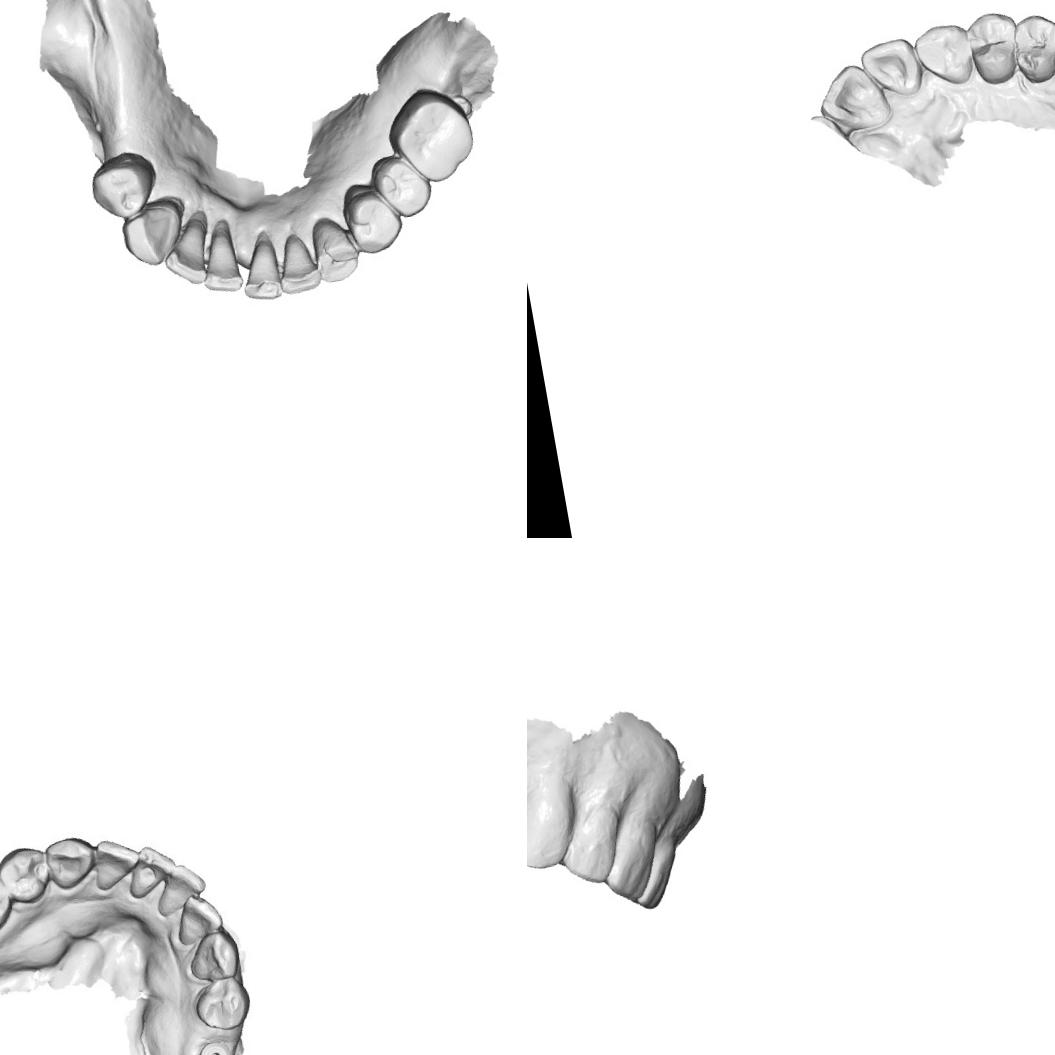canine: (527, 779, 588, 880), (114, 196, 188, 272), (910, 17, 982, 93), (309, 212, 364, 288), (182, 928, 244, 984), (39, 834, 97, 890)
implant: (194, 1035, 233, 1055)
incisor: (550, 798, 632, 894), (594, 816, 672, 908), (810, 57, 897, 138), (856, 34, 929, 106), (156, 217, 213, 292), (190, 224, 246, 298), (233, 229, 286, 306), (270, 229, 326, 299), (628, 842, 682, 912), (90, 834, 144, 889), (154, 858, 206, 911), (176, 893, 224, 944), (126, 846, 171, 890)
molar: (378, 77, 482, 190)
premolar: (81, 146, 164, 226), (963, 3, 1032, 90), (336, 175, 406, 260), (365, 148, 434, 224), (1005, 7, 1055, 90), (191, 973, 253, 1036), (0, 844, 55, 907)
